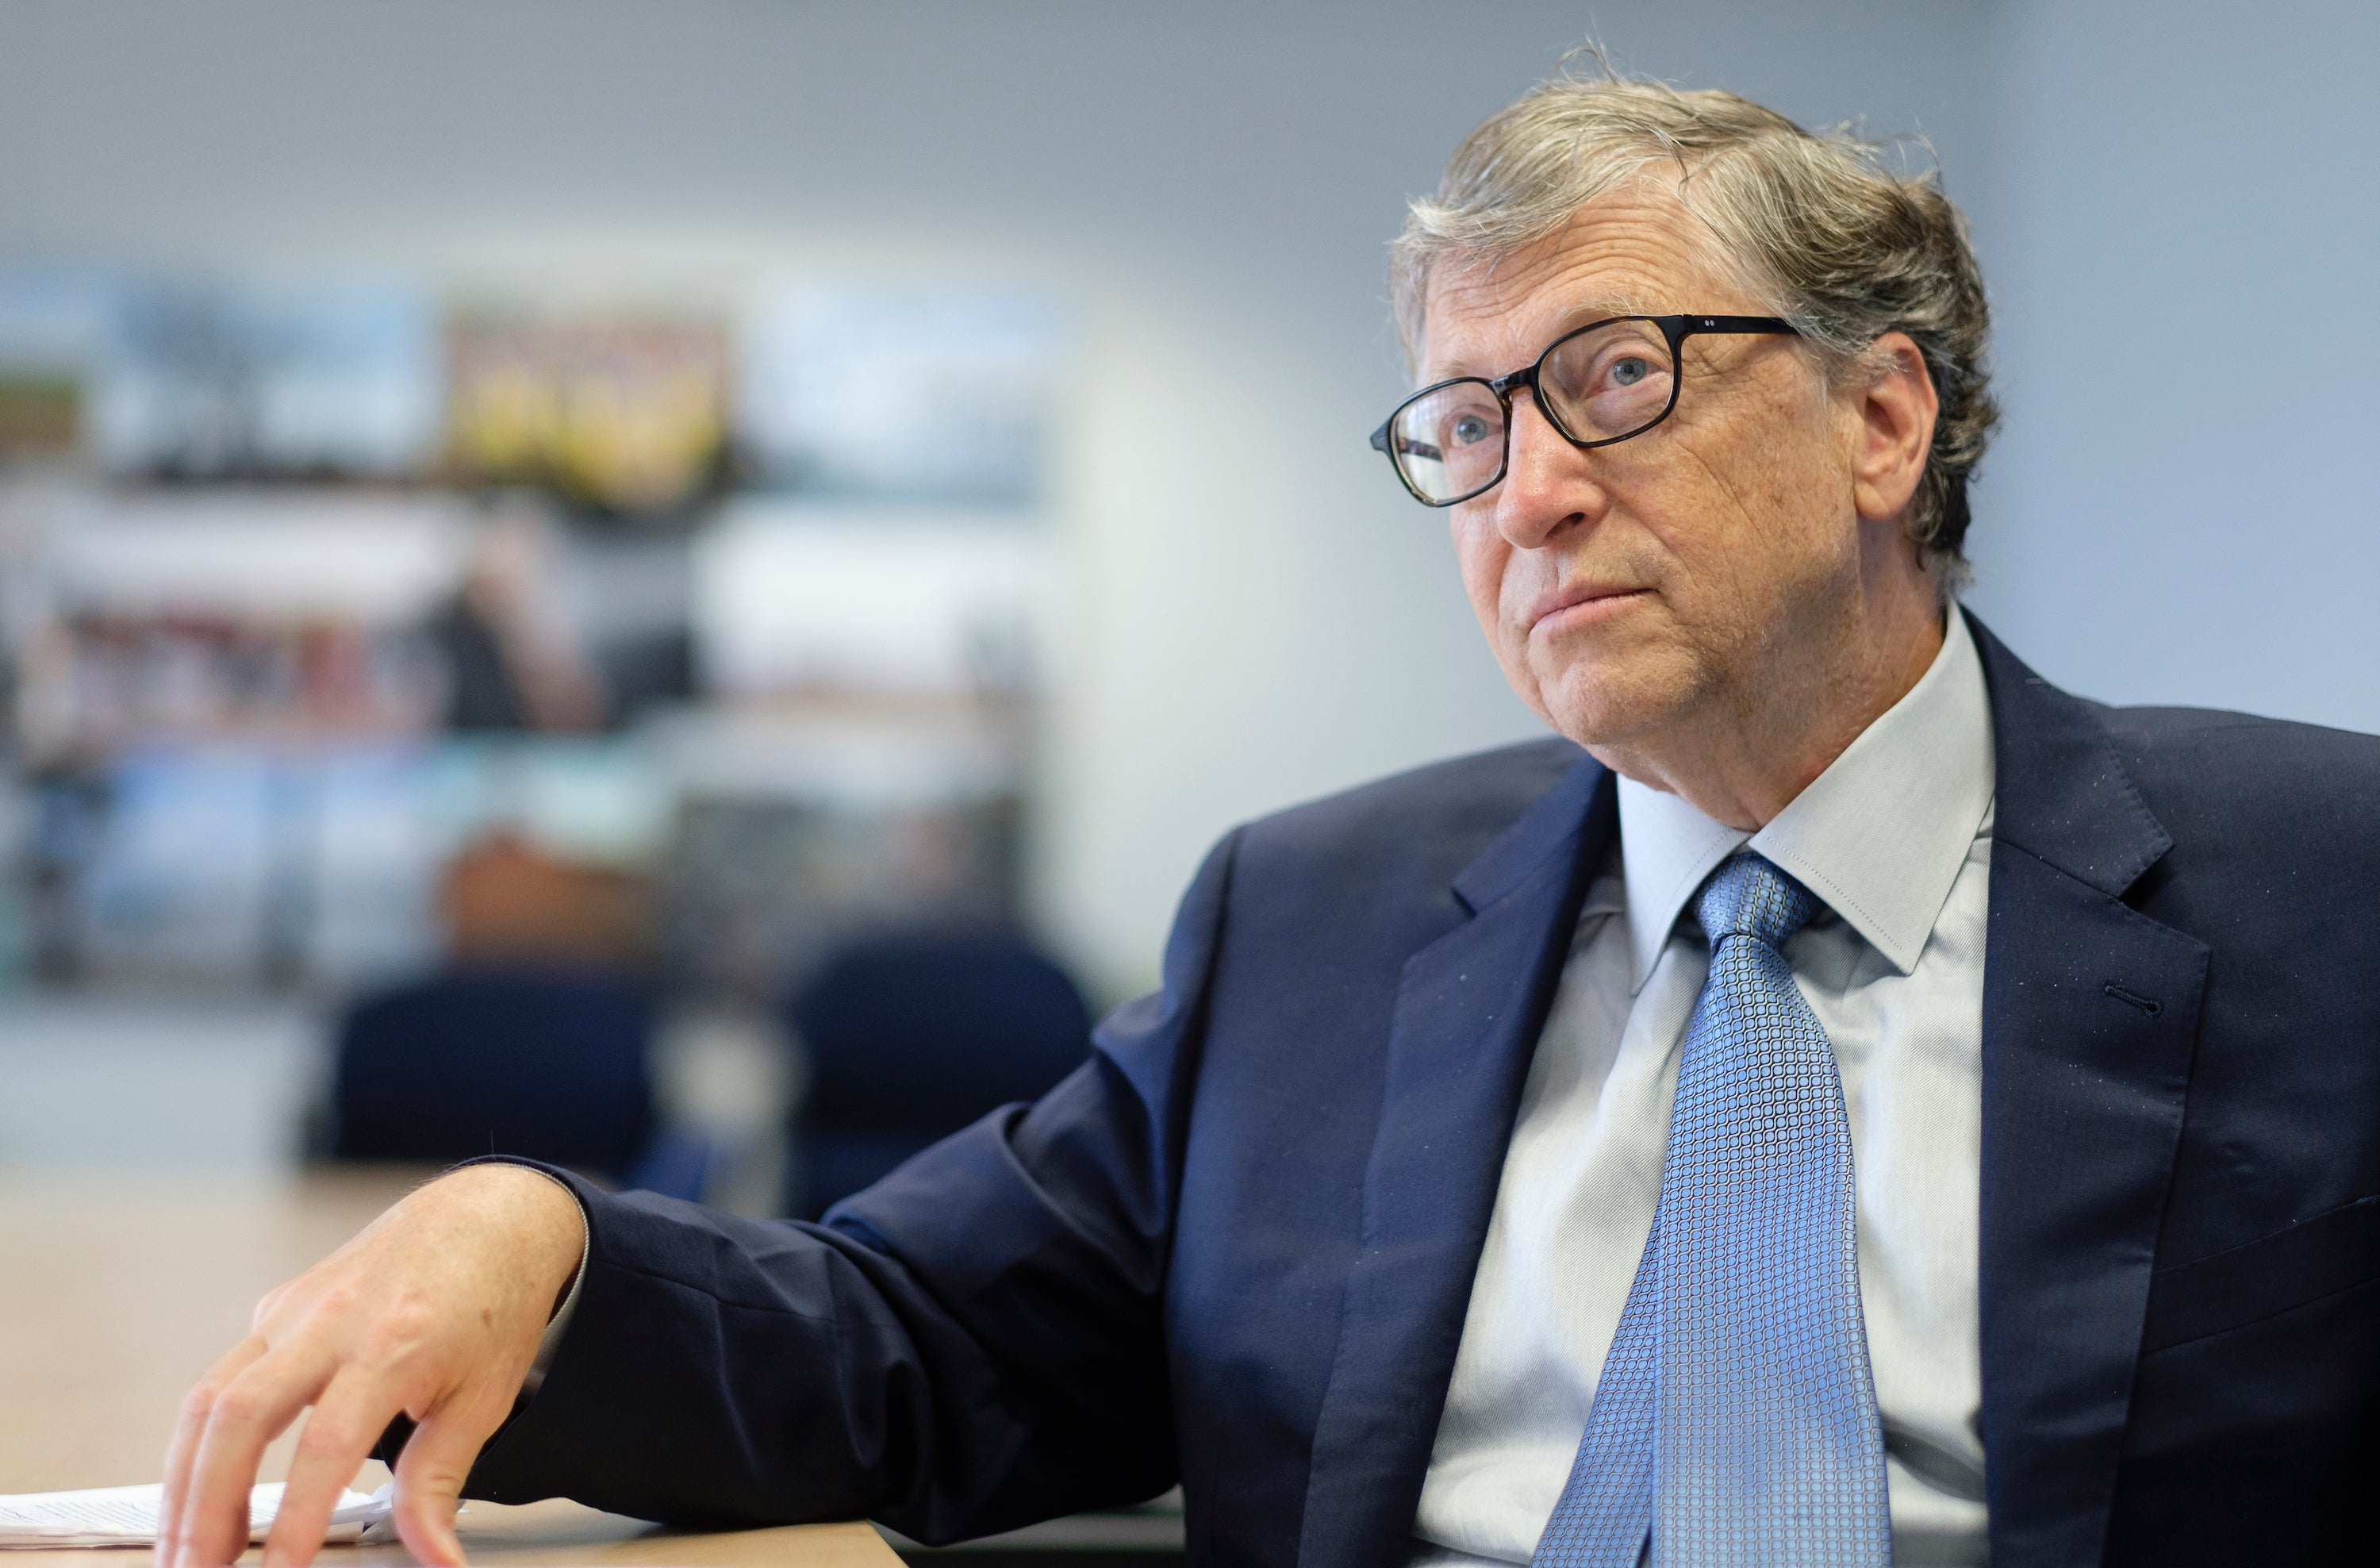person: (1363, 69, 2002, 771)
